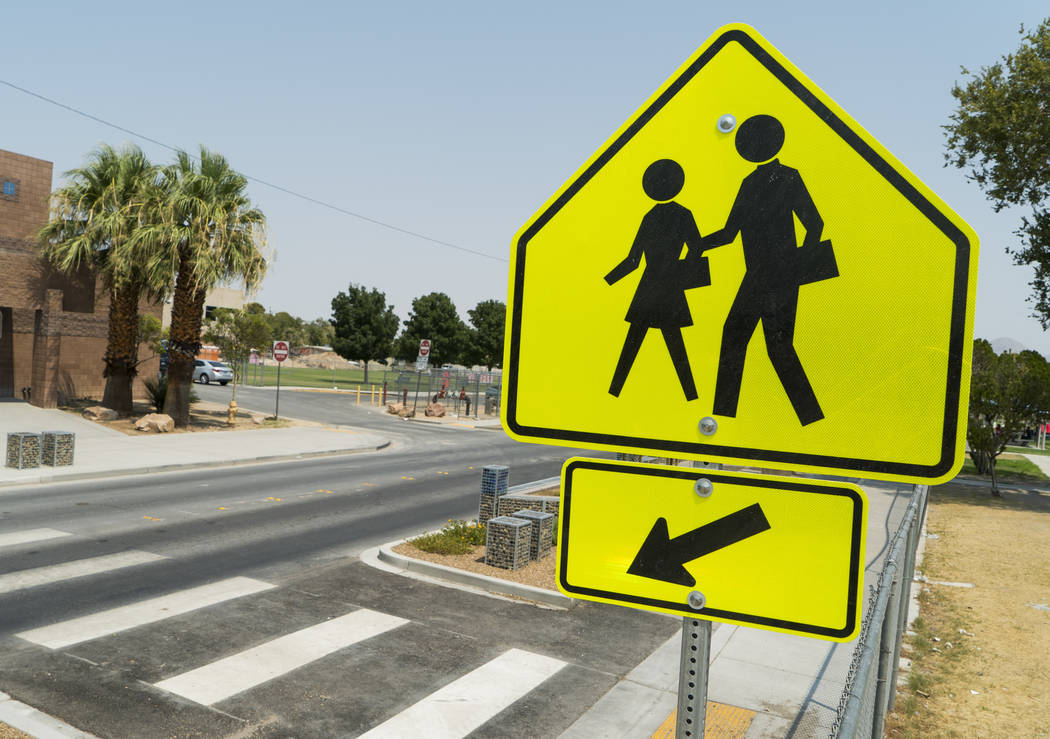slow: (502, 20, 969, 488)
